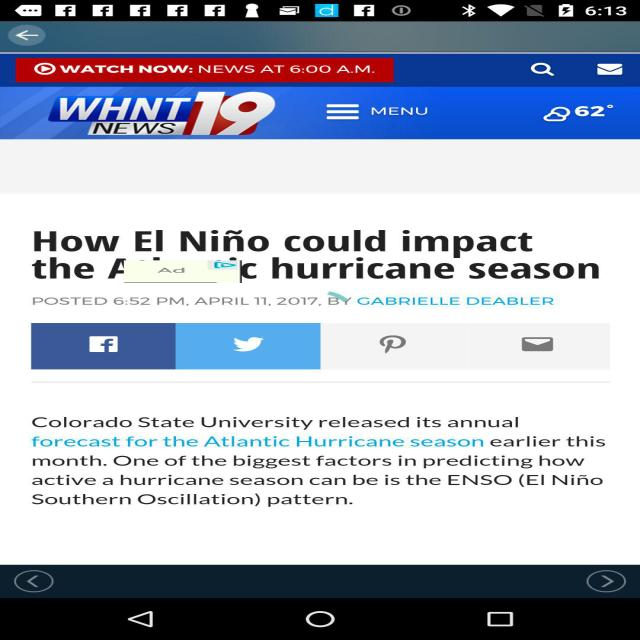sneaking: (124, 260, 242, 283)
